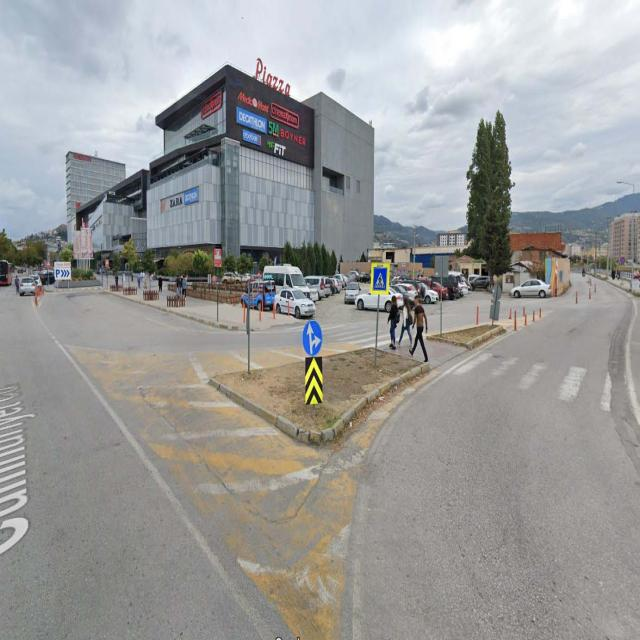ilerisag: (302, 321, 321, 354)
